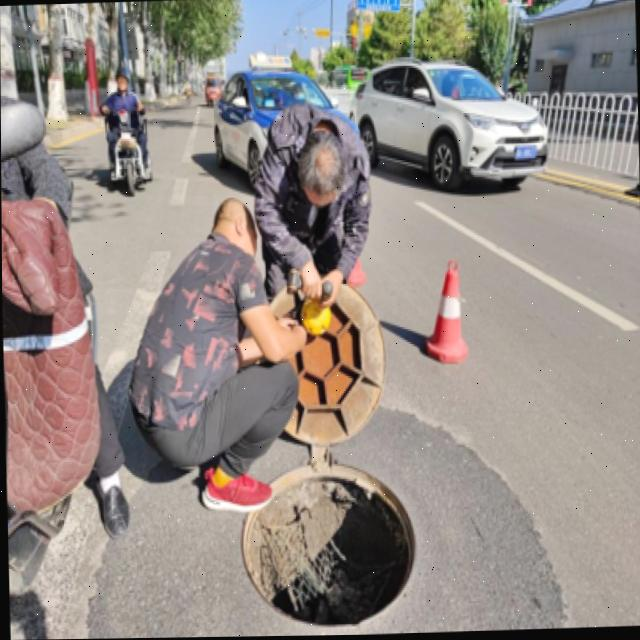manhole: (237, 452, 419, 633)
